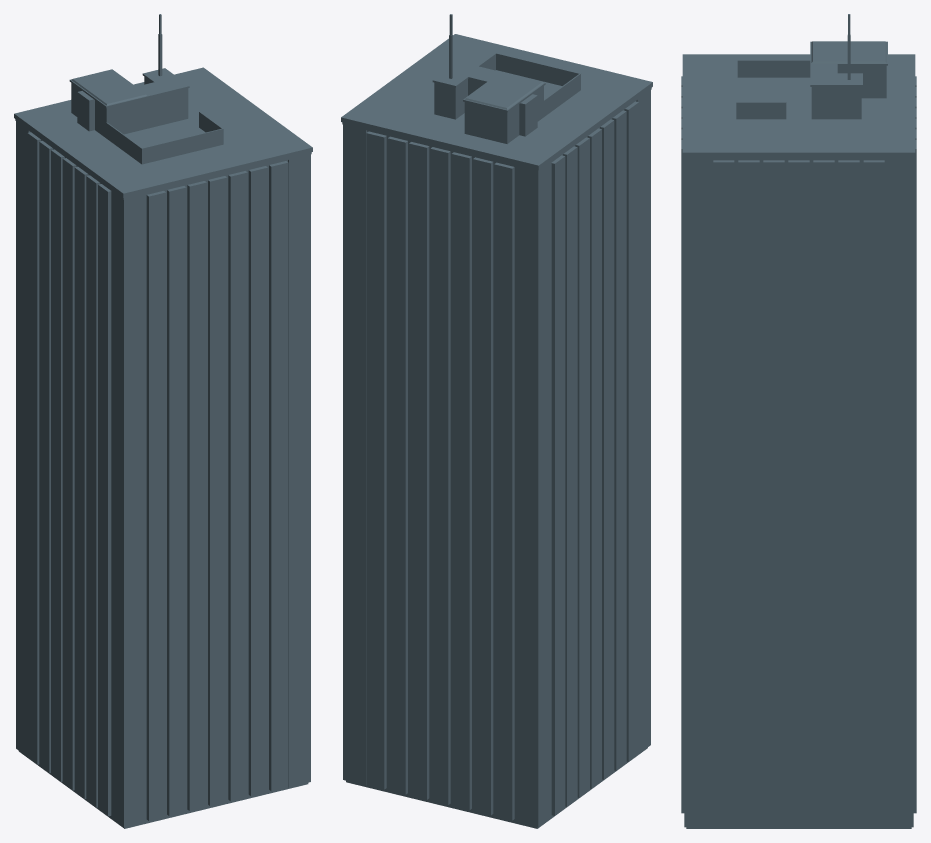
Rendered from bs_tower_b.fbx.
3 renders of one model, left to right at view 1: azimuth 30°, elevation 25°; view 2: azimuth 150°, elevation 25°; view 3: azimuth 270°, elevation 25°, orthographic. The views are drawn at different scales.
Visible parts, largest first — view 1: bs_tower_b; view 2: bs_tower_b; view 3: bs_tower_b.
Part boxes in pixels (x1,y1,x2,y2): bs_tower_b: (14, 14, 312, 828); bs_tower_b: (341, 14, 652, 828); bs_tower_b: (681, 14, 916, 828).
Size of the model in its own units: 959 by 959 by 3500.
